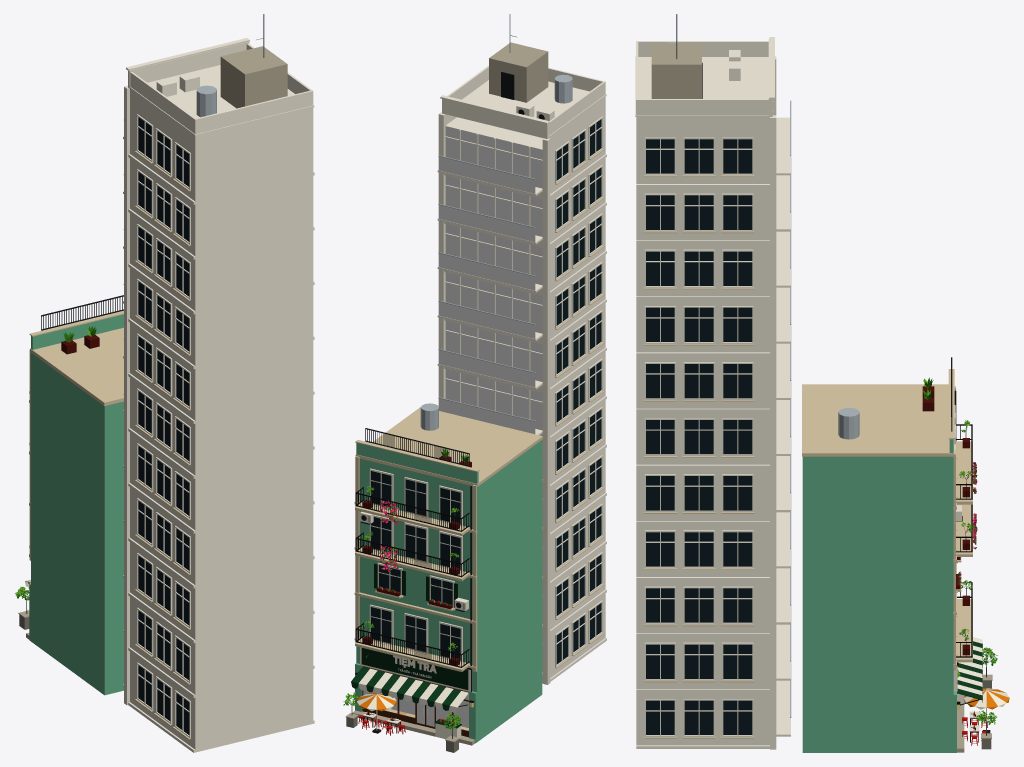
The model's file is PV_StreetShop01.fbx.
3 views of the same model, side by side, from view 1: azimuth 30°, elevation 25°; view 2: azimuth 150°, elevation 25°; view 3: azimuth 270°, elevation 25° (orthographic). The views are drawn at different scales.
Visible parts, largest first — view 1: PV_StreetShop01_LOD0; view 2: PV_StreetShop01_LOD0; view 3: PV_StreetShop01_LOD0.
Part boxes in pixels (left/top/right/bottom): PV_StreetShop01_LOD0: left=15, top=14, right=314, bottom=752; PV_StreetShop01_LOD0: left=343, top=14, right=606, bottom=752; PV_StreetShop01_LOD0: left=635, top=14, right=1009, bottom=752.
Size of what is drawn, in the model's own units: 8.46 by 41 by 19.35.
Materials: 2 (1 with a texture image).
